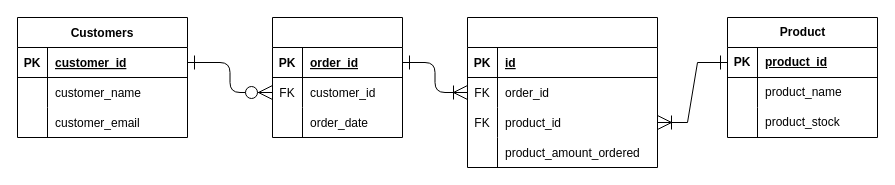
This 895x185 diagram has some shape labels left out. Each missing label, with the box of its shape:
OrderProduct: (466, 16, 658, 168)
Orders: (272, 16, 402, 138)
